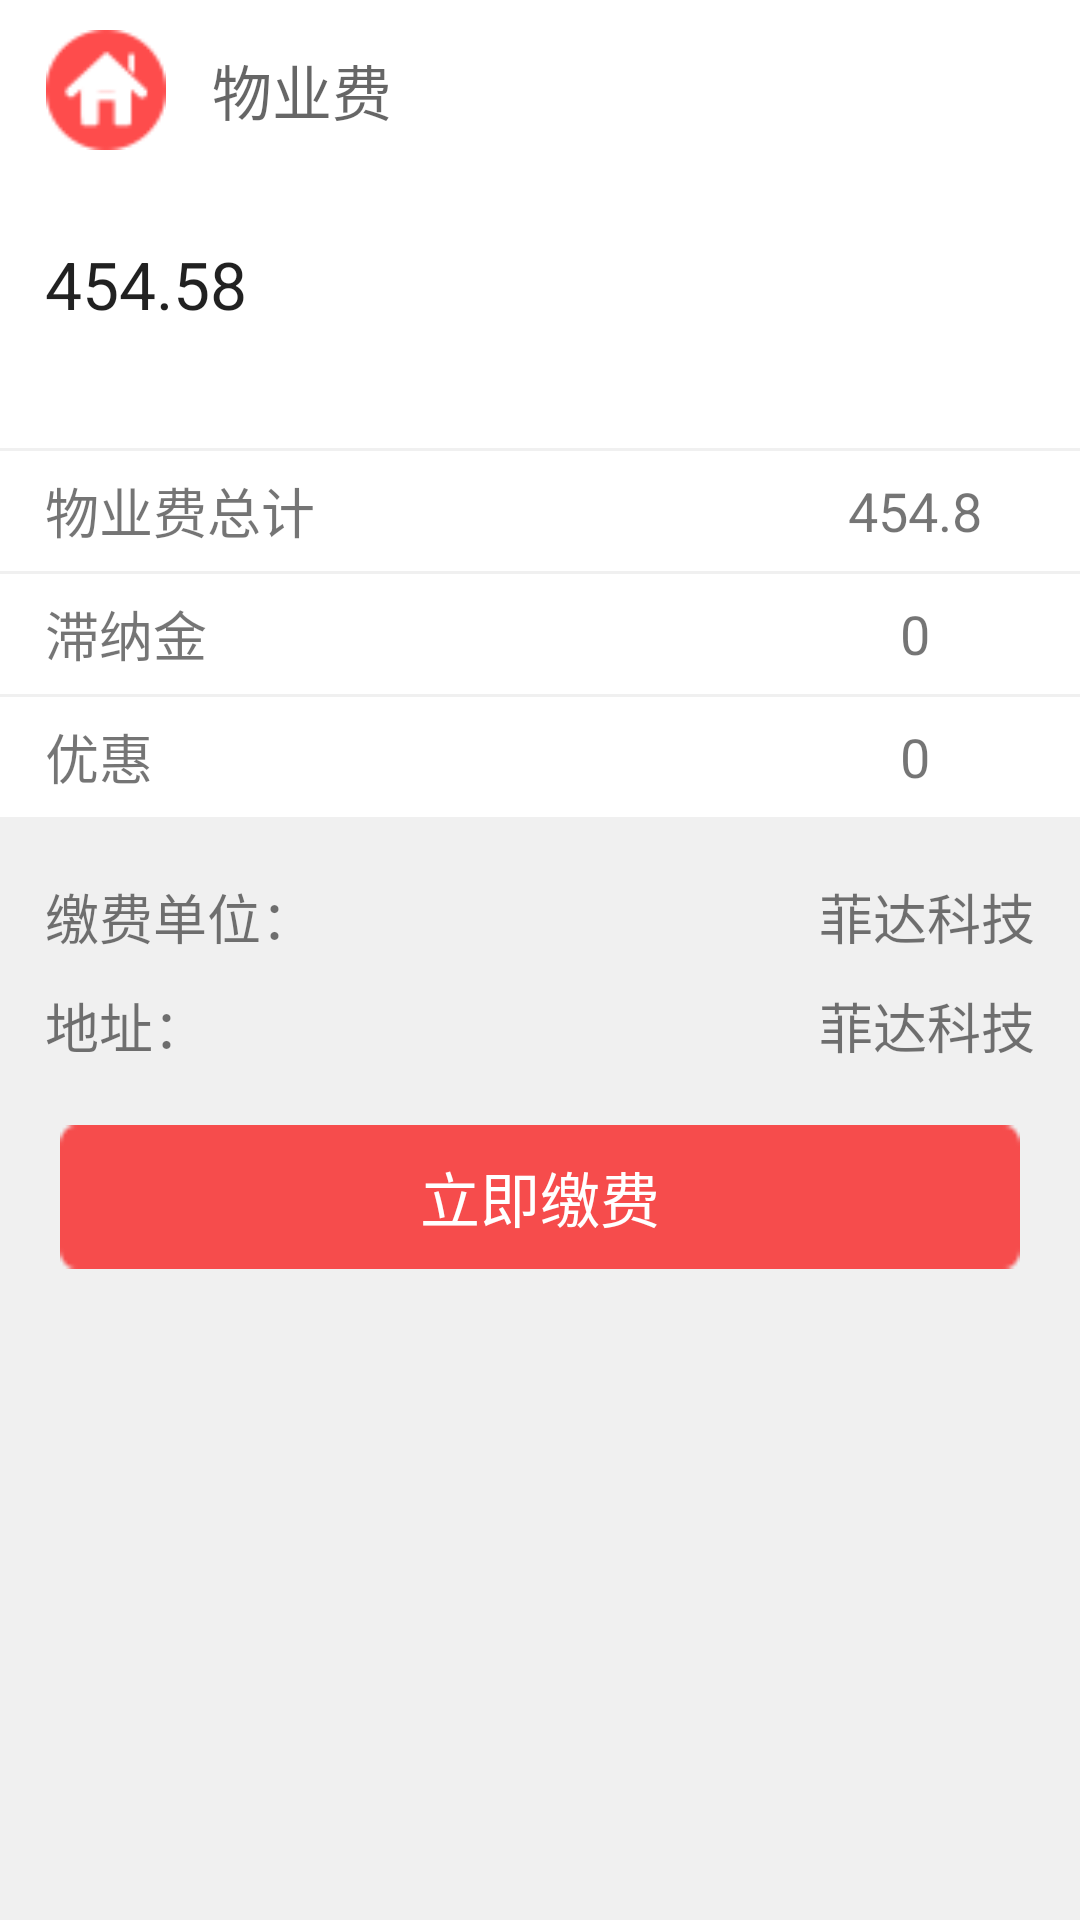

Where icons sit on this 1080w x 1920h app screen, as (x1, y1, x2, y2):
tenement fee: (46, 30, 166, 150)
